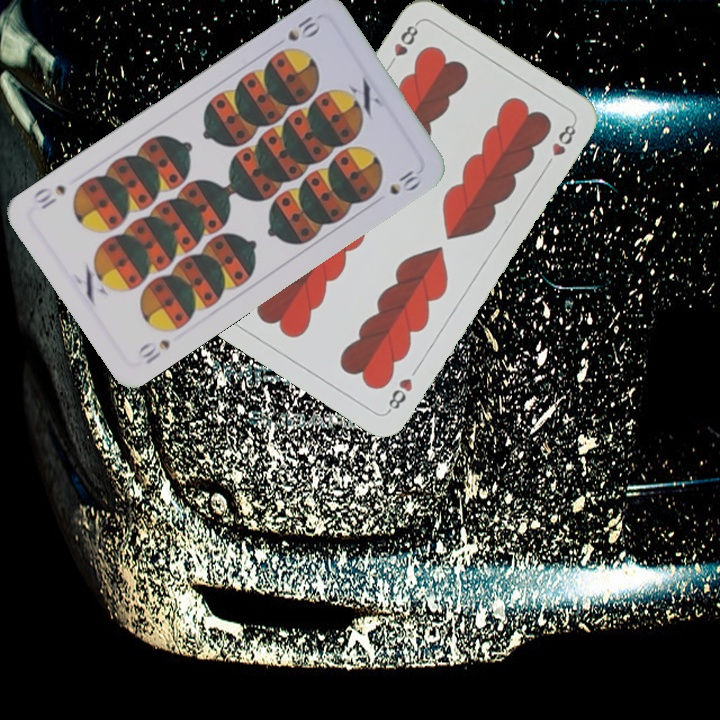H8: (384, 18, 422, 71), (383, 374, 415, 415)
S10: (134, 335, 173, 367), (283, 12, 321, 44)
